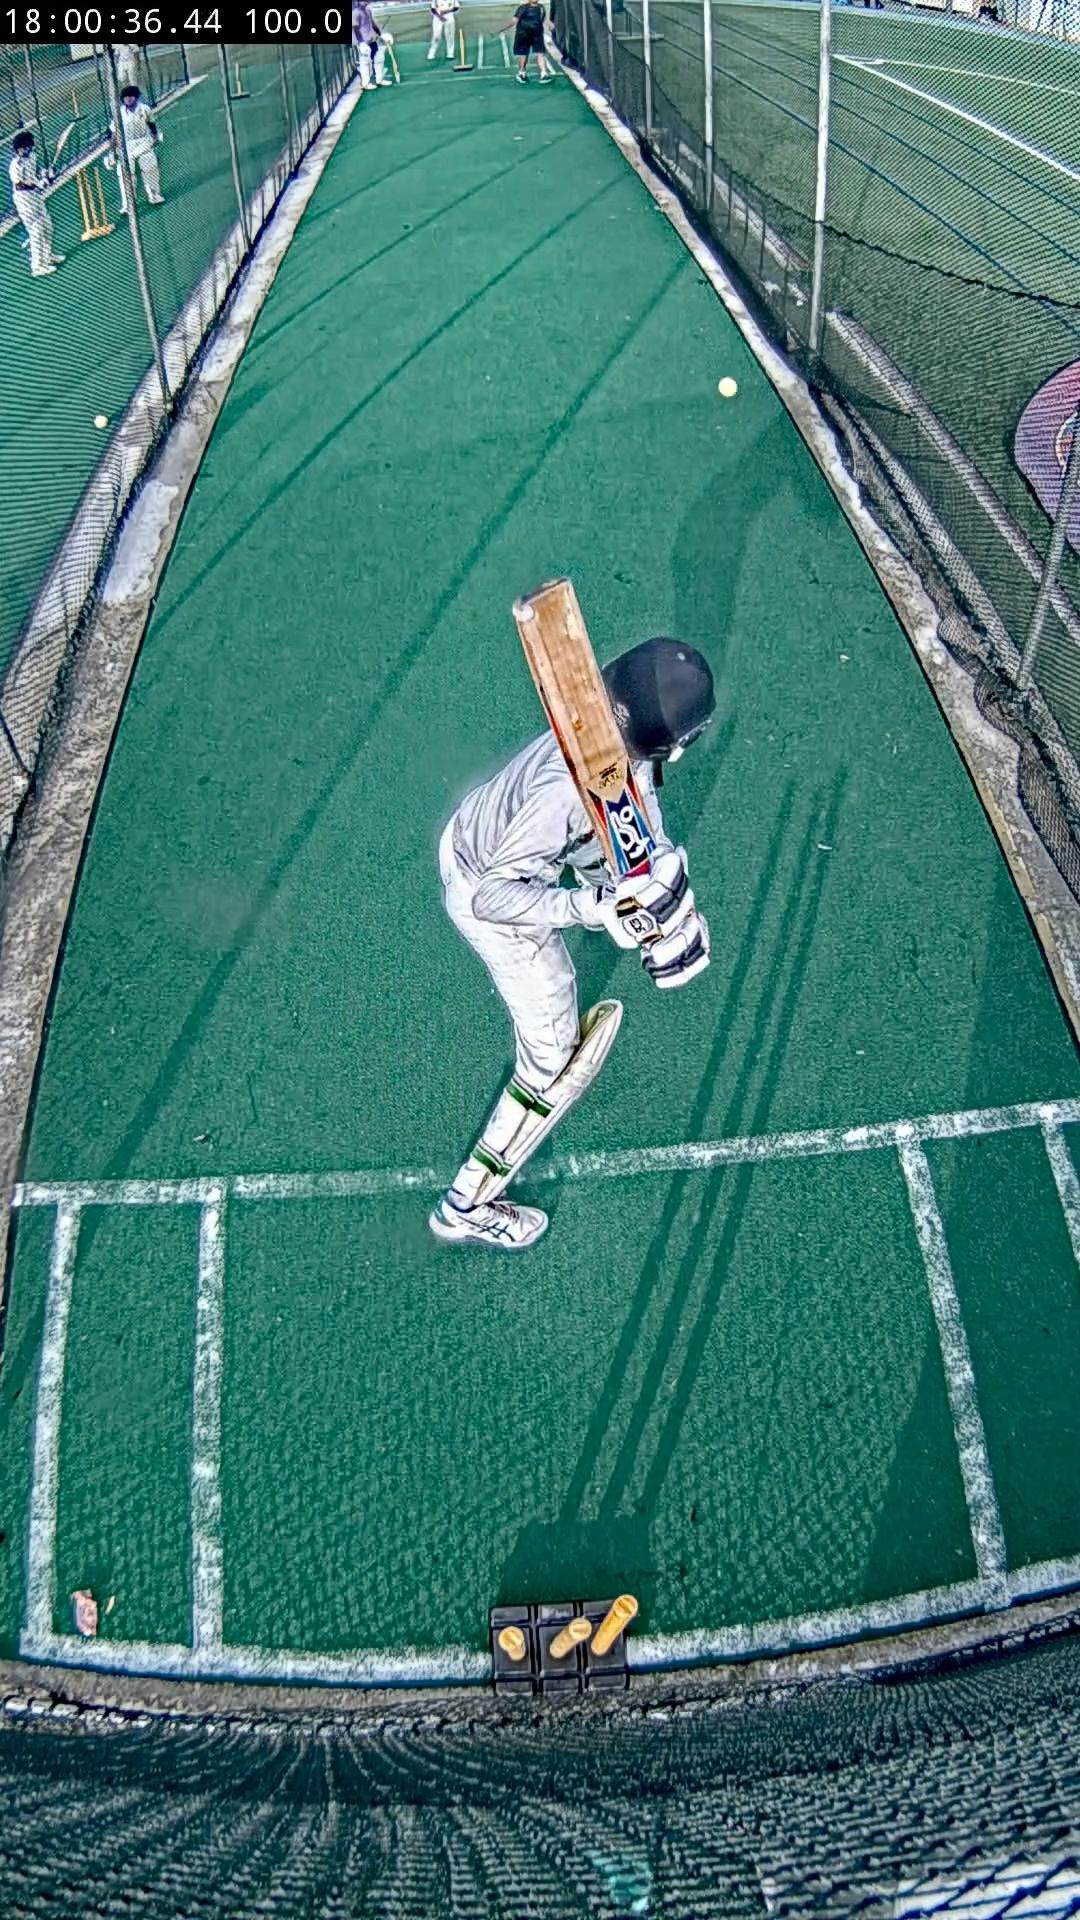ball: (716, 375, 738, 397)
bat: (514, 578, 657, 877)
gloves: (574, 848, 708, 990)
helmet: (604, 637, 716, 757)
pads: (476, 1001, 622, 1201)
stumps: (492, 1594, 637, 1695)
